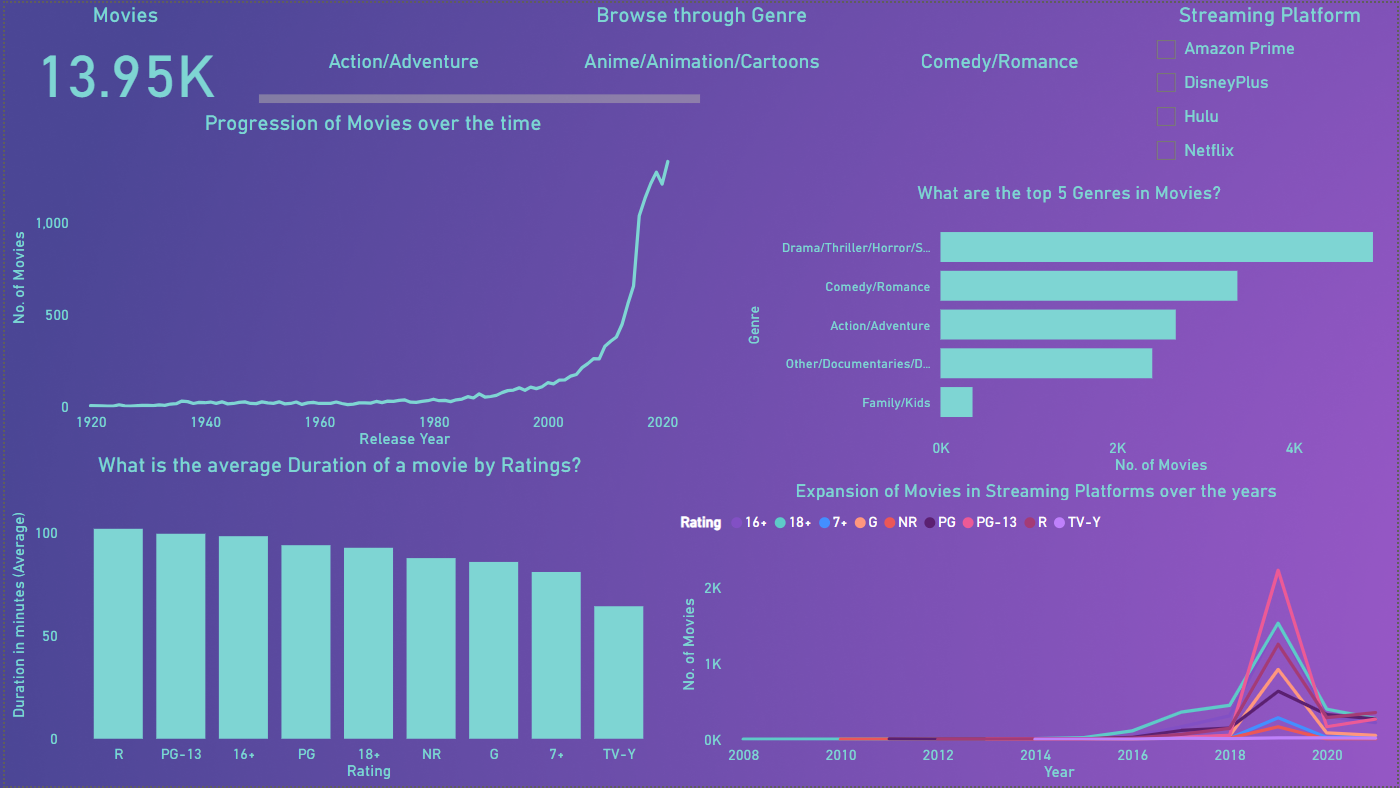

What the dashboard file says about the page in this screenshot:
{"tool":"powerbi","page":{"name":"Movies","canvas":[1280,720],"ordinal":1},"visuals":[{"type":"card","title":"Movies","fields":{"Values":["CountNonNull(Movies_clean_final.title)"]},"box":[0,0,221.8,98.9],"z":0},{"type":"advancedSlicerVisual","title":"Browse through Genre","fields":{"Values":["Movies_clean_final.Genre"]},"box":[228.7,0,824.1,98.9],"z":1},{"type":"slicer","title":"Streaming Platform","fields":{"Values":["Movies_clean_final.streaming_platform"]},"box":[1046,0,234.5,164.4],"z":2},{"type":"lineChart","title":"Progression of Movies over the time","fields":{"Y":["CountNonNull(Movies_clean_final.title)"],"Category":["Movies_clean_final.release_year"]},"box":[0,98.9,677,314.9],"z":3},{"type":"clusteredBarChart","title":"What are the top 5 Genres in Movies?","fields":{"Category":["Movies_clean_final.Genre"],"Y":["CountNonNull(Movies_clean_final.title)"]},"box":[677,164.4,603.4,273.6],"z":4},{"type":"lineChart","title":"Expansion of Movies in Streaming Platforms over the years","fields":{"Series":["Movies_clean_final.rating"],"Category":["Movies_clean_final.date_added.Variation.Date Hierarchy.Year","Movies_clean_final.date_added.Variation.Date Hierarchy.Quarter","Movies_clean_final.date_added.Variation.Date Hierarchy.Month","Movies_clean_final.date_added.Variation.Date Hierarchy.Day"],"Y":["CountNonNull(Movies_clean_final.title)"]},"box":[616.1,437.9,664.4,281.6],"z":5},{"type":"columnChart","title":"What is the average Duration of a movie by Ratings?","fields":{"Category":["Movies_clean_final.rating"],"Y":["Avg(Movies_clean_final.duration_minutes)"]},"box":[0,413.8,616.1,305.7],"z":6}]}

Visuals, with their boxes in screenshot pixels (x1, y1, x2, y2), scaled from the page's 1280x720 canvas onto the 1400x788 screenshot:
"Movies" card: box(0, 0, 243, 108)
"Browse through Genre" advancedSlicerVisual: box(250, 0, 1152, 108)
"Streaming Platform" slicer: box(1144, 0, 1399, 180)
"Progression of Movies over the time" lineChart: box(0, 108, 740, 453)
"What are the top 5 Genres in Movies?" clusteredBarChart: box(740, 180, 1399, 479)
"Expansion of Movies in Streaming Platforms over the years" lineChart: box(674, 479, 1399, 787)
"What is the average Duration of a movie by Ratings?" columnChart: box(0, 453, 674, 787)
